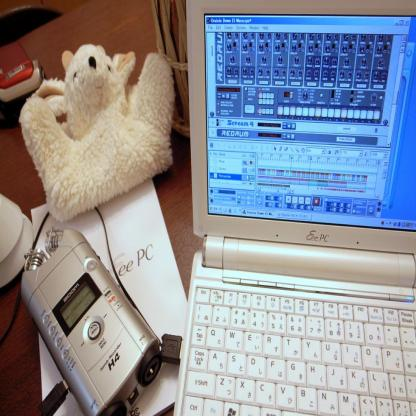board: (173, 0, 415, 415)
